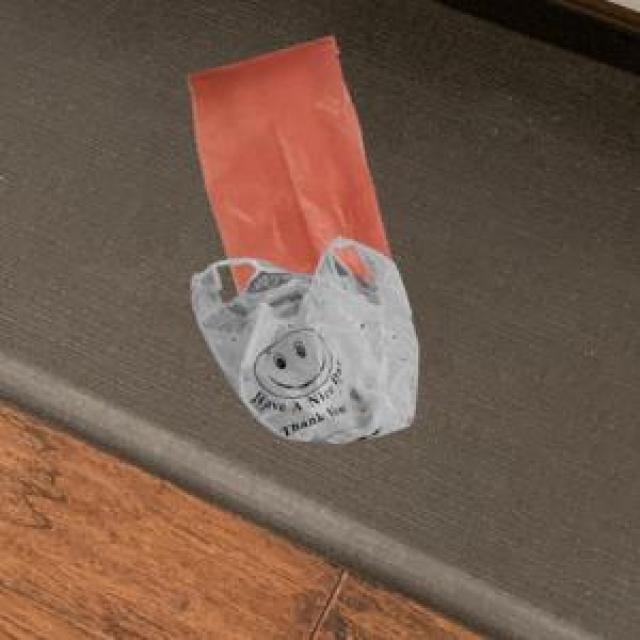waste: (189, 36, 419, 443)
